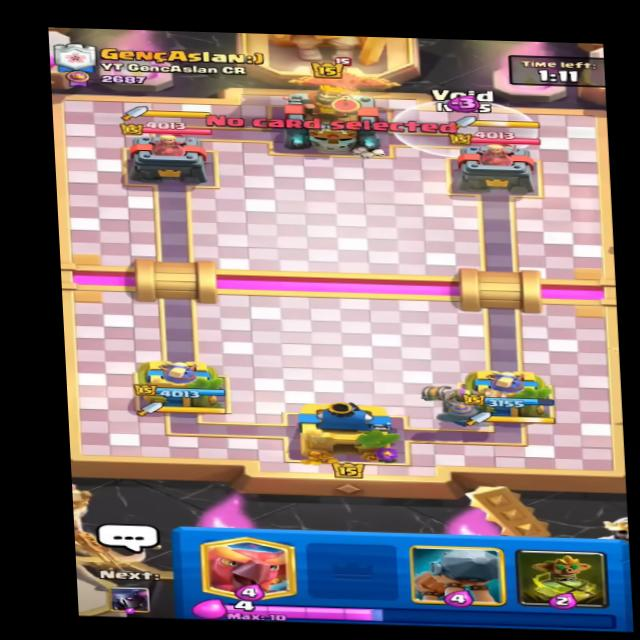Pheonix: (281, 53, 409, 106)
